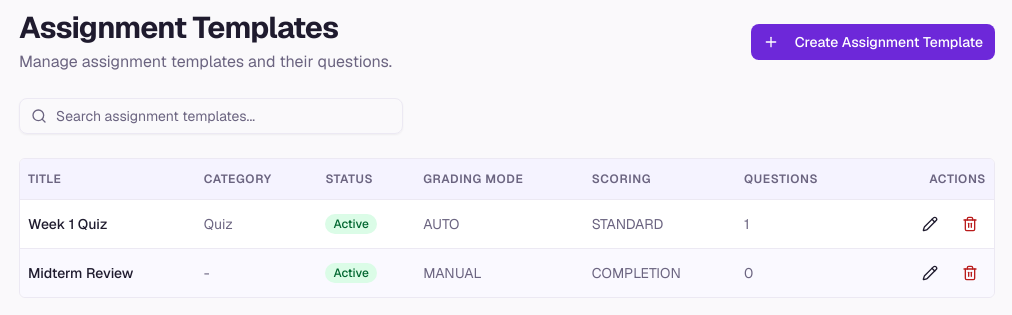
AssignmentTemplateListView › shows 'No assignment templates match your search.' when filter returns empty
This screenshot has width=1012, height=315.
Expected: the text "Week 1 Quiz" is shown, [20, 199, 196, 248]
Type "zzzzzz" into the field with placeholder "Search assignment templates...".
click(211, 116); type("zzzzzz")  # box [19, 98, 403, 134]
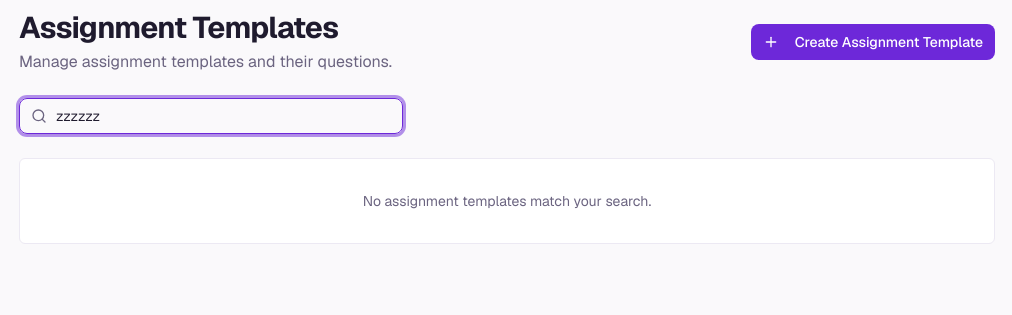
Expected: the text "No assignment templates match your search." is shown, [363, 192, 651, 210]
